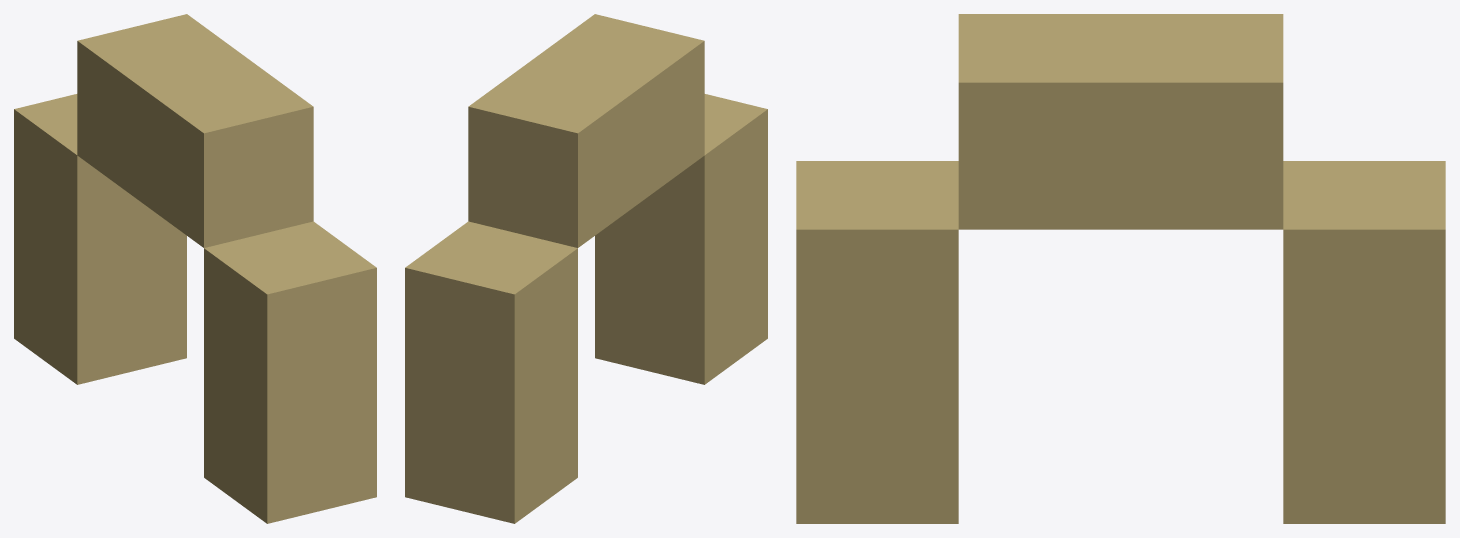
The model's file is cannon_standart-3.fbx.
The picture shows the model from 3 angles, left to right: view 1: azimuth 30°, elevation 25°; view 2: azimuth 150°, elevation 25°; view 3: azimuth 270°, elevation 25°; orthographic projection. The views are drawn at different scales.
Visible parts, largest first — view 1: cannon_standart-3.001; view 2: cannon_standart-3.001; view 3: cannon_standart-3.001.
Boxes of the visible parts, x1,y1,x2,y2 form: cannon_standart-3.001: [14, 14, 376, 523]; cannon_standart-3.001: [405, 14, 767, 523]; cannon_standart-3.001: [796, 14, 1445, 523].
Size of the model in its own units: 0.1 by 0.3 by 0.4.
Materials: 1 (1 with a texture image).
